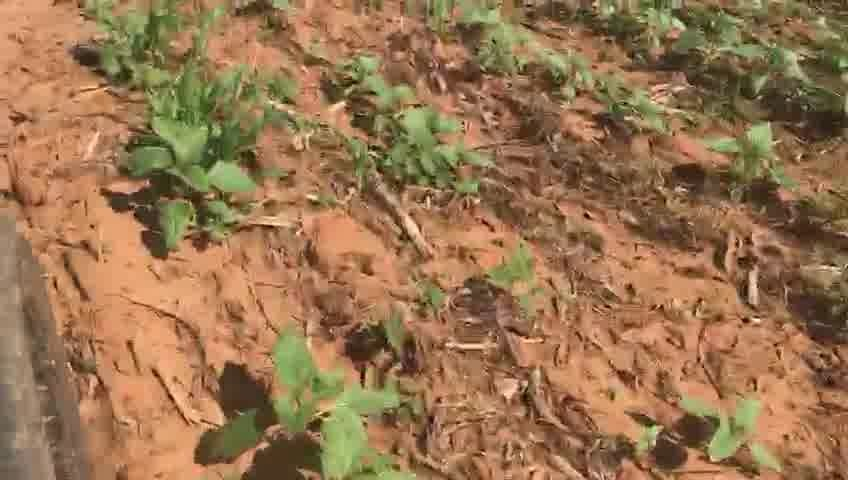sunflower: (193, 332, 409, 473), (127, 115, 263, 260), (665, 381, 791, 477), (87, 4, 200, 89), (378, 97, 477, 190), (718, 119, 789, 189)
